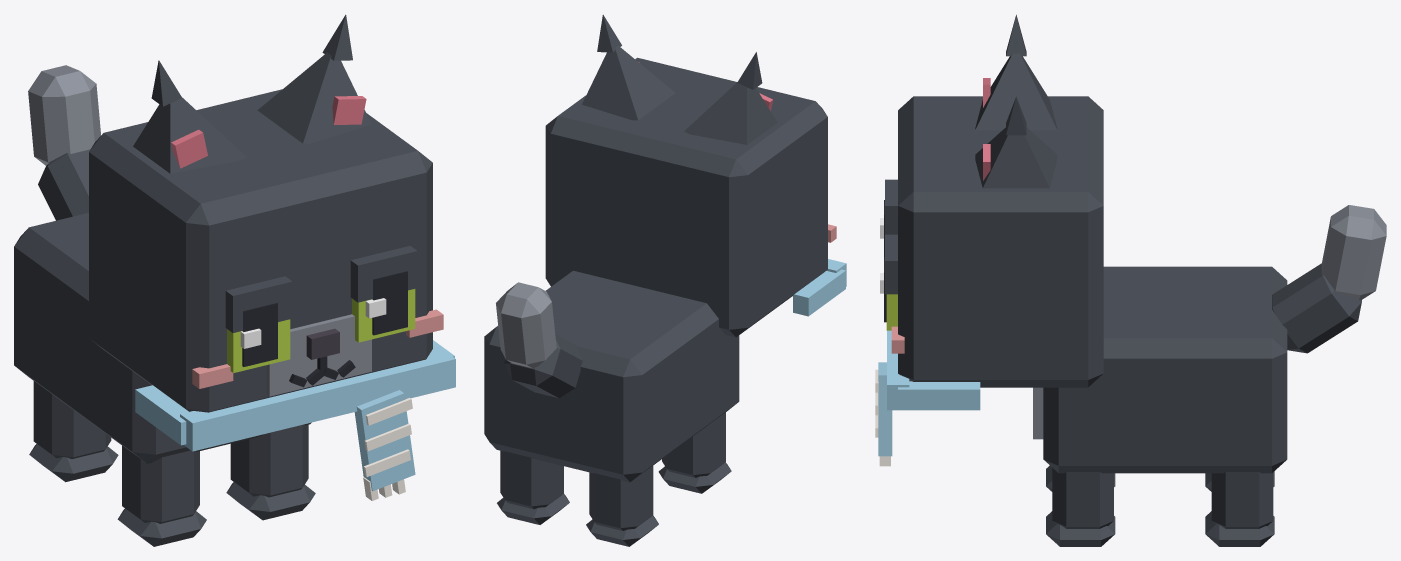
The model's file is CatCafe_Cat_Smoke.fbx.
3 renders of one model, left to right at view 1: azimuth 30°, elevation 25°; view 2: azimuth 150°, elevation 25°; view 3: azimuth 270°, elevation 25°, orthographic. The views are drawn at different scales.
Parts seen in each view (by area): view 1: CatCafe_Cat_Smoke_Head, CatCafe_Cat_Smoke_Body, CatCafe_Cat_Smoke_Prop, CatCafe_Cat_Smoke_Tail, CatCafe_Cat_Smoke_EarL, CatCafe_Cat_Smoke_LegF2, CatCafe_Cat_Smoke_LegF1, CatCafe_Cat_Smoke_EarR, CatCafe_Cat_Smoke_Eye2, CatCafe_Cat_Smoke_Eye1, CatCafe_Cat_Smoke_LegB2; view 2: CatCafe_Cat_Smoke_Head, CatCafe_Cat_Smoke_Body, CatCafe_Cat_Smoke_Tail, CatCafe_Cat_Smoke_EarL, CatCafe_Cat_Smoke_LegB2, CatCafe_Cat_Smoke_LegB1, CatCafe_Cat_Smoke_EarR, CatCafe_Cat_Smoke_LegF2, CatCafe_Cat_Smoke_Prop; view 3: CatCafe_Cat_Smoke_Head, CatCafe_Cat_Smoke_Body, CatCafe_Cat_Smoke_Tail, CatCafe_Cat_Smoke_LegB1, CatCafe_Cat_Smoke_LegF1, CatCafe_Cat_Smoke_Prop, CatCafe_Cat_Smoke_EarL, CatCafe_Cat_Smoke_EarR, CatCafe_Cat_Smoke_Eye1, CatCafe_Cat_Smoke_Eye2.
Part boxes in pixels (left/top/right/bottom): CatCafe_Cat_Smoke_Head: left=89, top=89, right=443, bottom=412; CatCafe_Cat_Smoke_Body: left=14, top=212, right=311, bottom=463; CatCafe_Cat_Smoke_Prop: left=135, top=340, right=455, bottom=500; CatCafe_Cat_Smoke_Tail: left=28, top=65, right=100, bottom=220; CatCafe_Cat_Smoke_EarL: left=257, top=14, right=371, bottom=143; CatCafe_Cat_Smoke_LegF2: left=117, top=445, right=206, bottom=546; CatCafe_Cat_Smoke_LegF1: left=226, top=424, right=315, bottom=520; CatCafe_Cat_Smoke_EarR: left=133, top=60, right=246, bottom=173; CatCafe_Cat_Smoke_Eye2: left=225, top=276, right=292, bottom=372; CatCafe_Cat_Smoke_Eye1: left=350, top=246, right=417, bottom=342; CatCafe_Cat_Smoke_LegB2: left=29, top=381, right=118, bottom=482; CatCafe_Cat_Smoke_Head: left=545, top=57, right=836, bottom=337; CatCafe_Cat_Smoke_Body: left=484, top=270, right=739, bottom=482; CatCafe_Cat_Smoke_Tail: left=496, top=282, right=582, bottom=398; CatCafe_Cat_Smoke_EarL: left=582, top=14, right=675, bottom=120; CatCafe_Cat_Smoke_LegB2: left=586, top=465, right=658, bottom=546; CatCafe_Cat_Smoke_LegB1: left=497, top=450, right=569, bottom=524; CatCafe_Cat_Smoke_EarR: left=684, top=52, right=777, bottom=144; CatCafe_Cat_Smoke_LegF2: left=658, top=412, right=731, bottom=493; CatCafe_Cat_Smoke_Prop: left=793, top=259, right=846, bottom=316; CatCafe_Cat_Smoke_Head: left=891, top=96, right=1103, bottom=387; CatCafe_Cat_Smoke_Body: left=1033, top=266, right=1287, bottom=473; CatCafe_Cat_Smoke_Tail: left=1272, top=205, right=1386, bottom=353; CatCafe_Cat_Smoke_LegB1: left=1205, top=472, right=1274, bottom=546; CatCafe_Cat_Smoke_LegF1: left=1046, top=468, right=1115, bottom=546; CatCafe_Cat_Smoke_Prop: left=875, top=330, right=980, bottom=466; CatCafe_Cat_Smoke_EarL: left=975, top=96, right=1057, bottom=188; CatCafe_Cat_Smoke_EarR: left=975, top=14, right=1057, bottom=130; CatCafe_Cat_Smoke_Eye1: left=880, top=234, right=897, bottom=330; CatCafe_Cat_Smoke_Eye2: left=880, top=179, right=897, bottom=257.
Bounding box in the file's own units: 1.11 × 1.97 × 1.99.
Materials: 1 (1 with a texture image).
